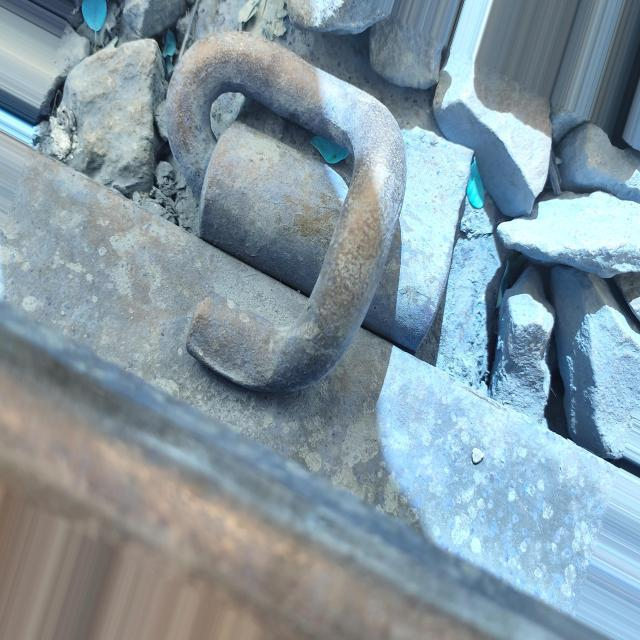Good Fasteners: (140, 21, 483, 442)
